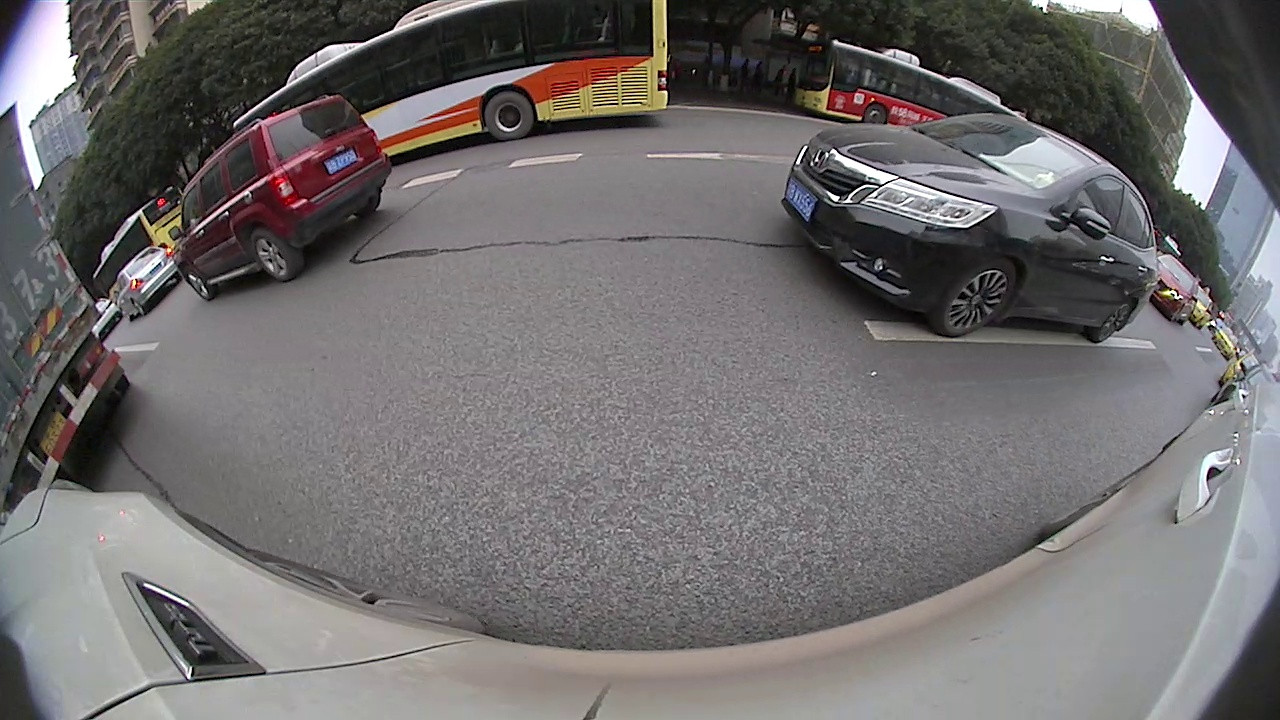bus: (233, 1, 669, 157), (794, 37, 1030, 123), (91, 182, 190, 302)
car: (781, 110, 1159, 346), (172, 89, 391, 301), (113, 246, 181, 317), (1151, 253, 1199, 324), (1217, 366, 1278, 408)
front: (941, 247, 1016, 338), (187, 257, 213, 299), (863, 101, 889, 124)
rear: (248, 226, 309, 279), (481, 90, 541, 139), (1099, 291, 1132, 344)
truck: (1, 102, 128, 490)
